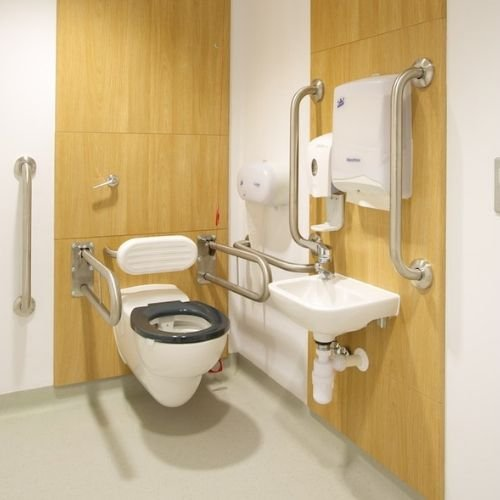dispenser: (331, 72, 413, 210), (304, 132, 345, 233), (236, 160, 294, 209)
door_handle: (88, 174, 120, 193)
faucet: (314, 244, 336, 281)
restroom_assist_bar: (388, 57, 436, 289), (288, 78, 325, 261), (196, 236, 273, 304), (70, 240, 123, 327), (12, 155, 40, 318), (224, 240, 320, 274)
sink: (267, 274, 400, 406)
toilet: (110, 283, 232, 409)
